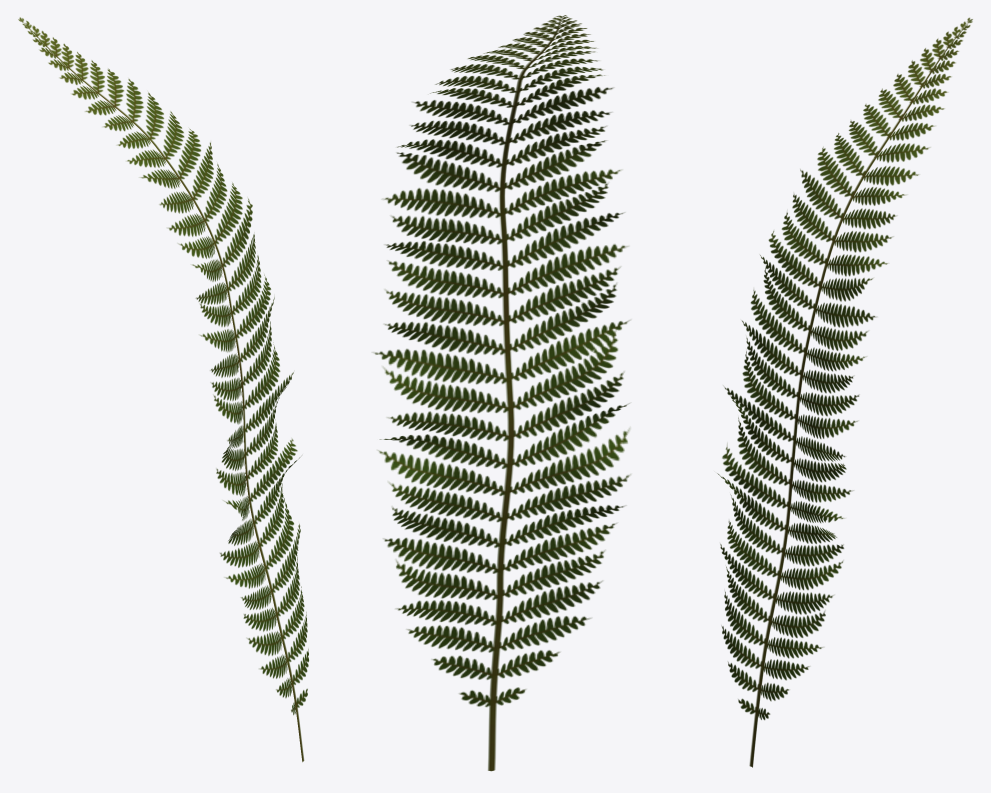
File: fern.glb
3 renders of one model, left to right at view 1: azimuth 30°, elevation 25°; view 2: azimuth 150°, elevation 25°; view 3: azimuth 270°, elevation 25°, orthographic. The views are drawn at different scales.
Visible parts, largest first — view 1: Fern_Fern_0; view 2: Fern_Fern_0; view 3: Fern_Fern_0.
Boxes of the visible parts, x1,y1,x2,y2 form: Fern_Fern_0: (18,17,308,761); Fern_Fern_0: (373,15,630,771); Fern_Fern_0: (717,17,972,767).
Bounding box in the file's own units: 0.3502 × 1 × 0.3772.
1 material, 1 textured.
